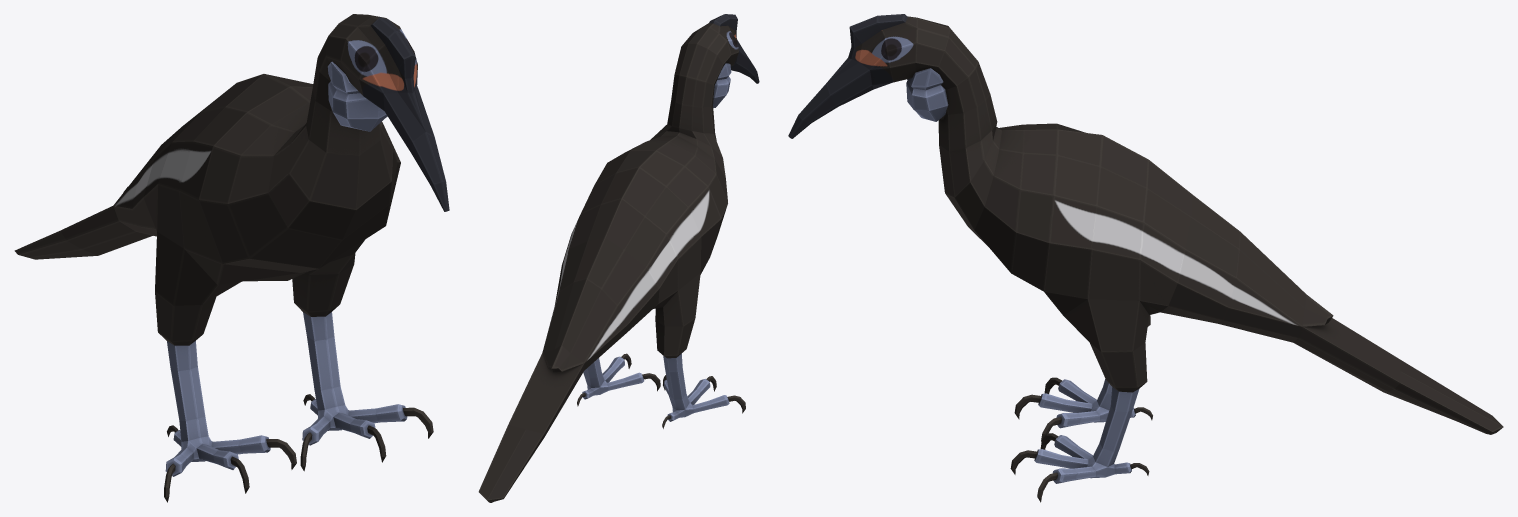
3 views of the same model, side by side, from view 1: azimuth 30°, elevation 25°; view 2: azimuth 150°, elevation 25°; view 3: azimuth 270°, elevation 25° (orthographic). The views are drawn at different scales.
Visible parts, largest first — view 1: AbyssinianGroundHornbill_mesh; view 2: AbyssinianGroundHornbill_mesh; view 3: AbyssinianGroundHornbill_mesh.
Part boxes in pixels (x1,y1,x2,y2): AbyssinianGroundHornbill_mesh: (14,14,449,502); AbyssinianGroundHornbill_mesh: (478,14,759,502); AbyssinianGroundHornbill_mesh: (788,14,1503,502).
Bounding box in the file's own units: 4.92 × 9.18 × 13.55.
1 material, 1 textured.
